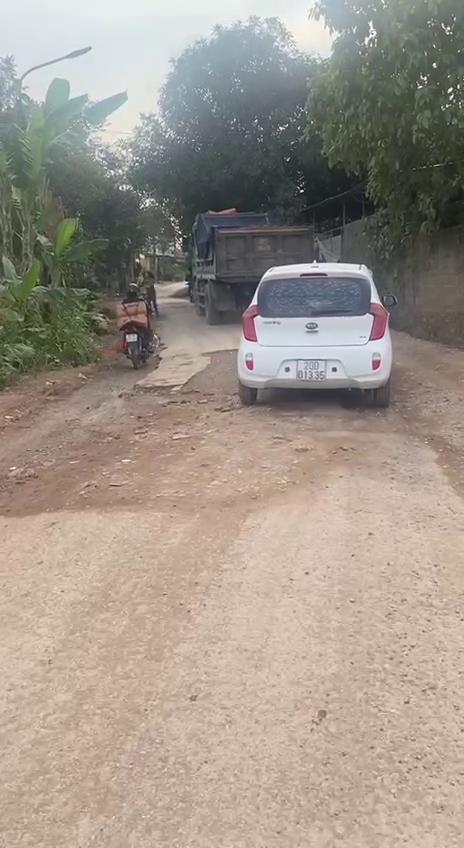pothole: (0, 424, 316, 514), (94, 380, 246, 420), (179, 344, 241, 412), (418, 430, 464, 498)
